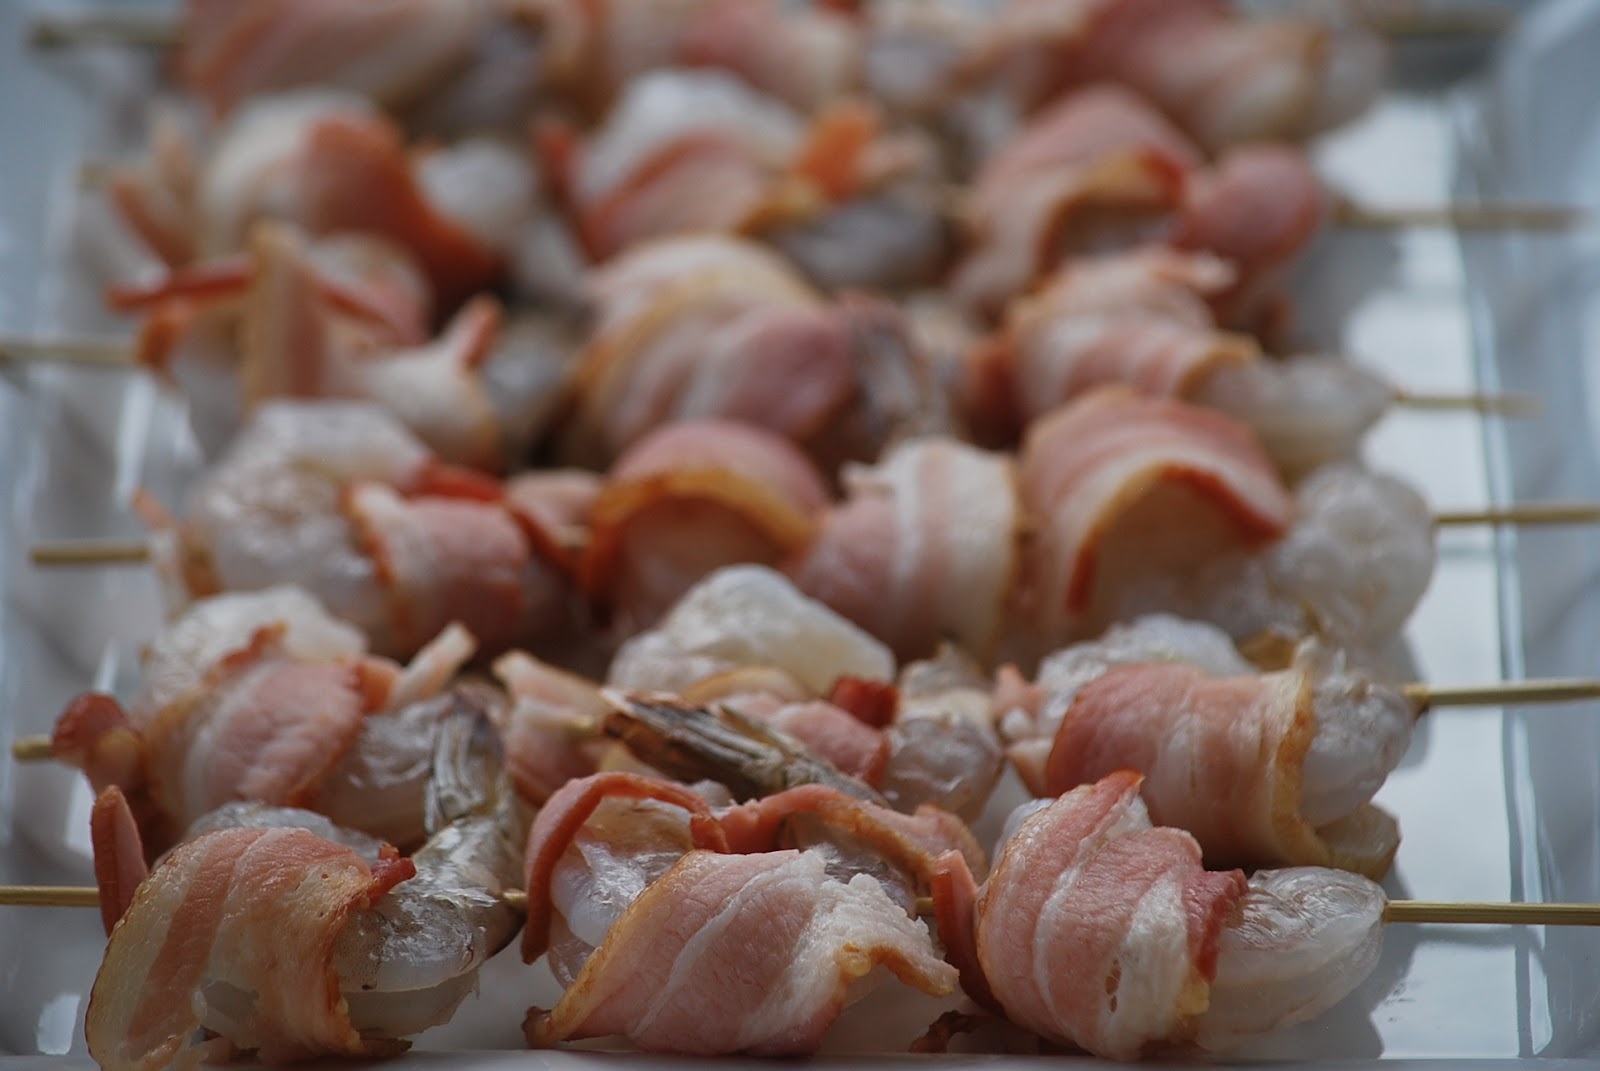bacon: (554, 781, 954, 997), (985, 384, 1307, 588), (1035, 649, 1344, 853), (580, 404, 807, 540)
